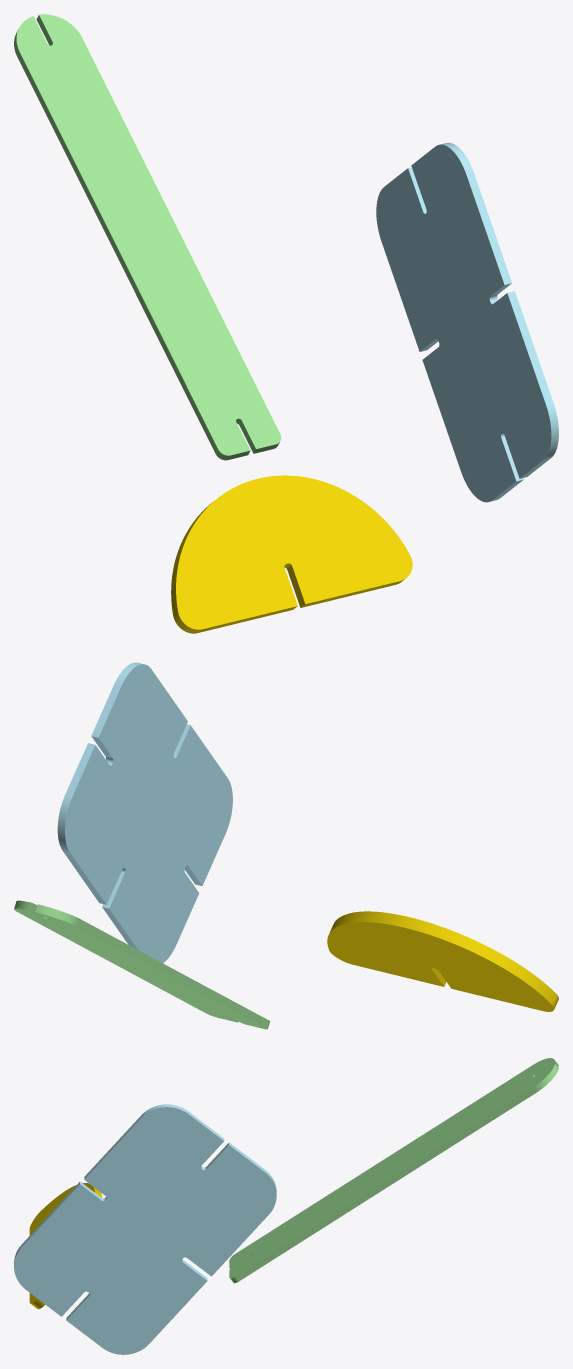
3 renders of one model, top to bottom at view 1: azimuth 30°, elevation 25°; view 2: azimuth 150°, elevation 25°; view 3: azimuth 270°, elevation 25°, orthographic. The views are drawn at different scales.
Parts seen in each view (by area): view 1: Componente1, Componente3, Componente2; view 2: Componente1, Componente2, Componente3; view 3: Componente1, Componente3, Componente2.
Part boxes in pixels (x1,y1,x2,y2): Componente1: [376, 142, 558, 502]; Componente3: [14, 14, 281, 460]; Componente2: [171, 475, 412, 633]; Componente1: [57, 662, 232, 963]; Componente2: [327, 911, 558, 1011]; Componente3: [14, 900, 270, 1029]; Componente1: [14, 1104, 276, 1354]; Componente3: [229, 1058, 558, 1283]; Componente2: [29, 1183, 102, 1309].
Bounding box in the file's own units: 64.44 × 57.53 × 112.
